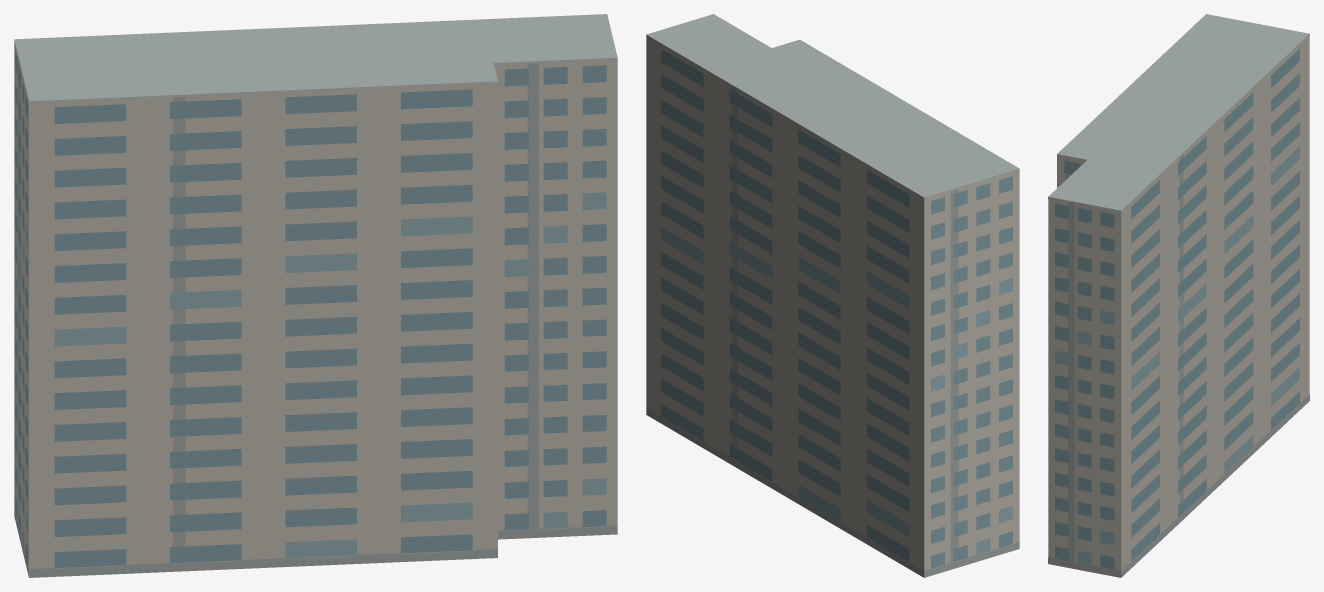
File: residential-a340b1aa-2288-43d7-87ca-03bb90bf6d3b.glb
3 renders of one model, left to right at view 1: azimuth 30°, elevation 25°; view 2: azimuth 150°, elevation 25°; view 3: azimuth 270°, elevation 25°, orthographic. The views are drawn at different scales.
Parts seen in each view (by area): view 1: residential-a340b1aa-2288-43d7-87ca-03bb90bf6d3b.tmp; view 2: residential-a340b1aa-2288-43d7-87ca-03bb90bf6d3b.tmp; view 3: residential-a340b1aa-2288-43d7-87ca-03bb90bf6d3b.tmp.
Part boxes in pixels (x1=…): residential-a340b1aa-2288-43d7-87ca-03bb90bf6d3b.tmp: x1=14, y1=14, x2=617, y2=577; residential-a340b1aa-2288-43d7-87ca-03bb90bf6d3b.tmp: x1=646, y1=14, x2=1019, y2=577; residential-a340b1aa-2288-43d7-87ca-03bb90bf6d3b.tmp: x1=1048, y1=14, x2=1309, y2=577.
Size of the model in its own units: 58.58 by 51 by 32.94.
